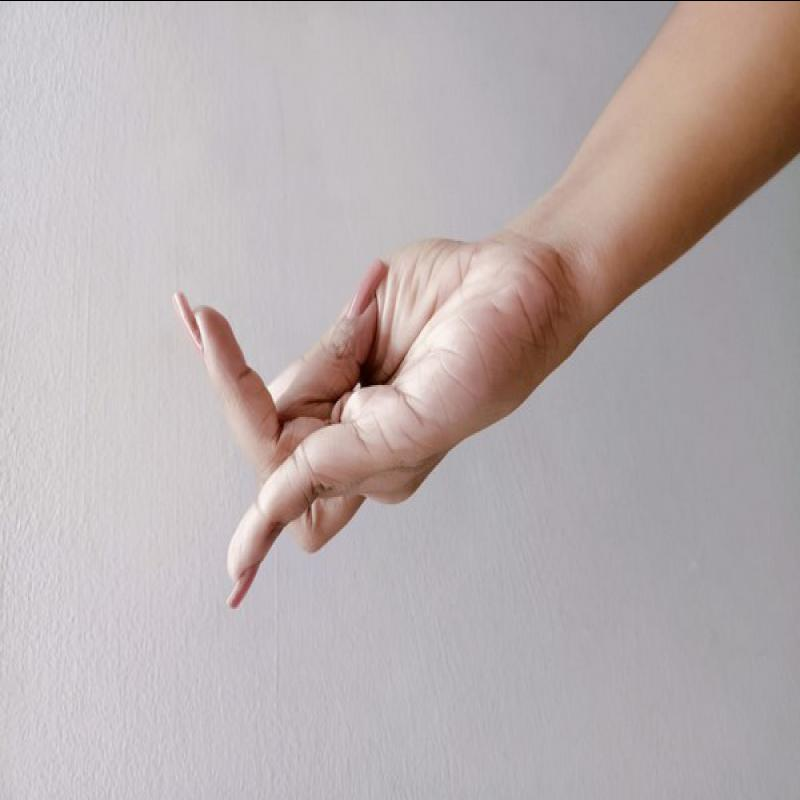Katakam: (148, 221, 563, 615)
